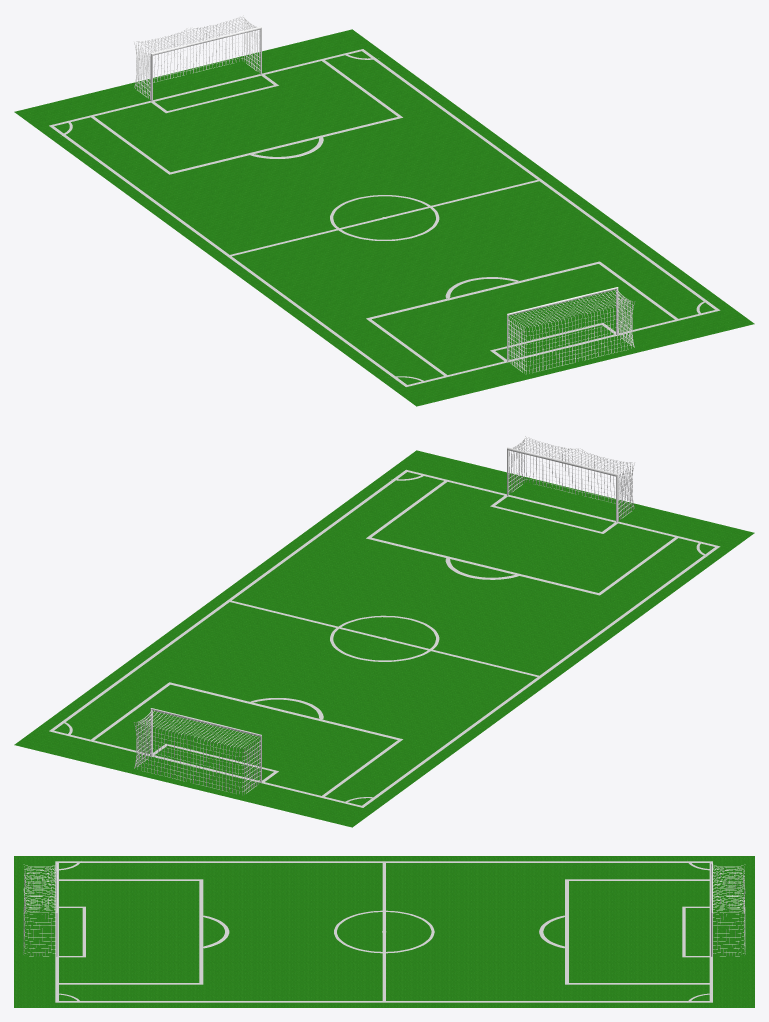
File: Stadium.fbx
3 views of the same model, one above another, from view 1: azimuth 30°, elevation 25°; view 2: azimuth 150°, elevation 25°; view 3: azimuth 270°, elevation 25° (orthographic). The views are drawn at different scales.
Visible parts, largest first — view 1: Plane, Line, Cube.001; view 2: Plane, Line, Cube.001; view 3: Plane, Line, Cube.001.
Boxes of the visible parts, x1=… form: Plane: x1=14, y1=29, x2=754, y2=406; Line: x1=49, y1=49, x2=720, y2=386; Cube.001: x1=133, y1=14, x2=635, y2=374; Plane: x1=14, y1=450, x2=754, y2=827; Line: x1=49, y1=469, x2=720, y2=807; Cube.001: x1=133, y1=435, x2=635, y2=795; Plane: x1=14, y1=856, x2=754, y2=1007; Line: x1=55, y1=861, x2=712, y2=1002; Cube.001: x1=23, y1=863, x2=745, y2=956.
Bounding box in the file's own units: 39.8 × 5.53 × 82.01.
3 materials, 1 textured.
